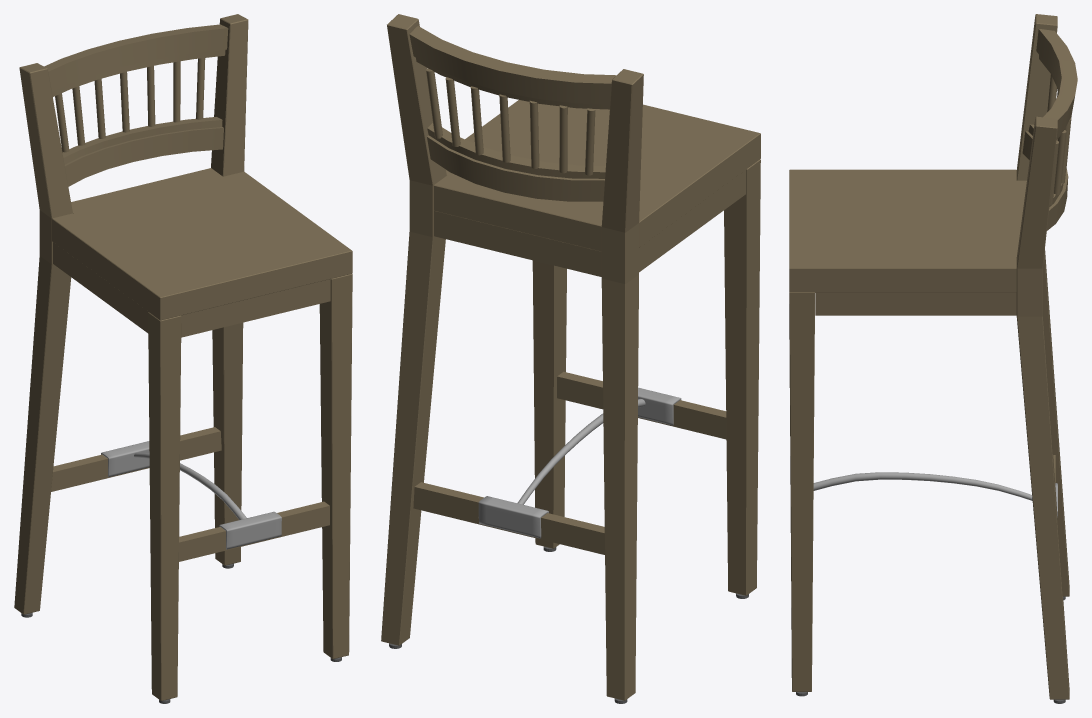
File: sh_scopia_bar_chair.glb
3 renders of one model, left to right at view 1: azimuth 30°, elevation 25°; view 2: azimuth 150°, elevation 25°; view 3: azimuth 270°, elevation 25°, orthographic. The views are drawn at different scales.
Size of the model in its own units: 0.447 by 1.08 by 0.486.
